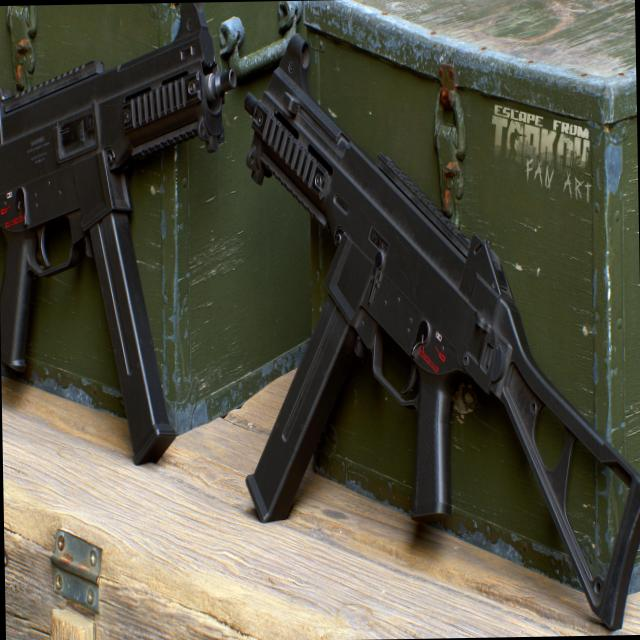Gun: (234, 51, 640, 639), (0, 1, 245, 498)
